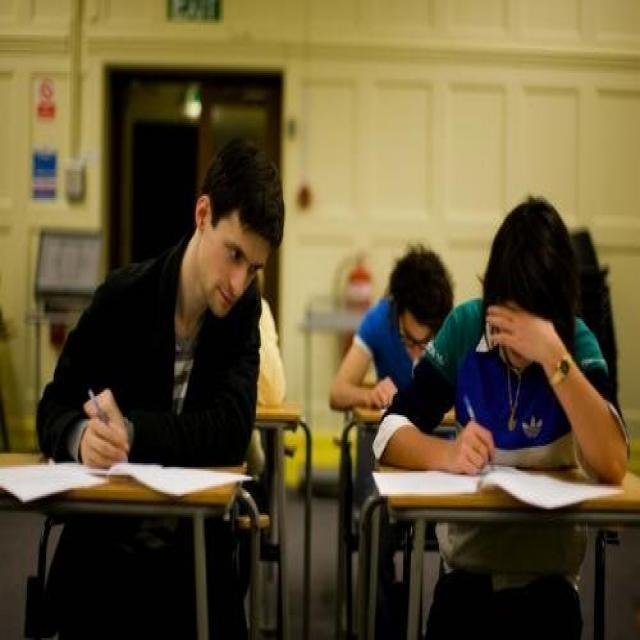cheating: (0, 149, 296, 520)
good: (337, 150, 640, 514)
